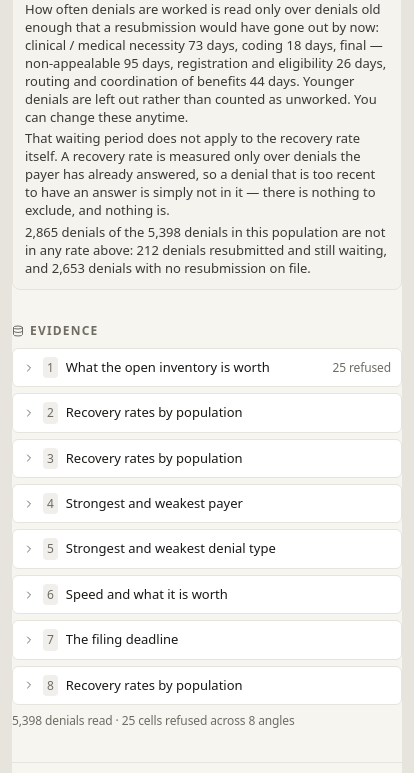
Test: the report — the working, in the product's own vocabulary › shows the per-angle evidence, including how many cells each angle refused
The width and height of the screenshot is (414, 773).
(page scrolled)
Expected: the element that starts with "Evidence" is shown, [12,322,402,730]
Step 1. Click the button "1 What the open inventory is worth 25 refused" → click(207, 368), box [13,349,401,386]
(page scrolled)
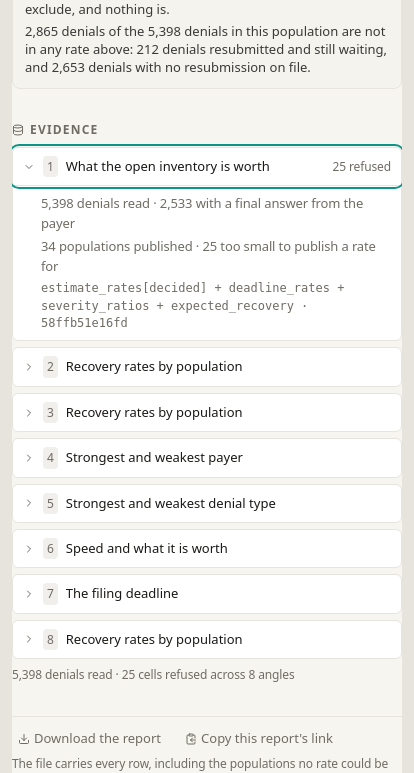
Expected: the element that starts with "Evidence" shows "5,398 denials read · 2,533 with a final answer"
Expected: the element that starts with "Evidence" shows "25 too small to publish a rate for"
